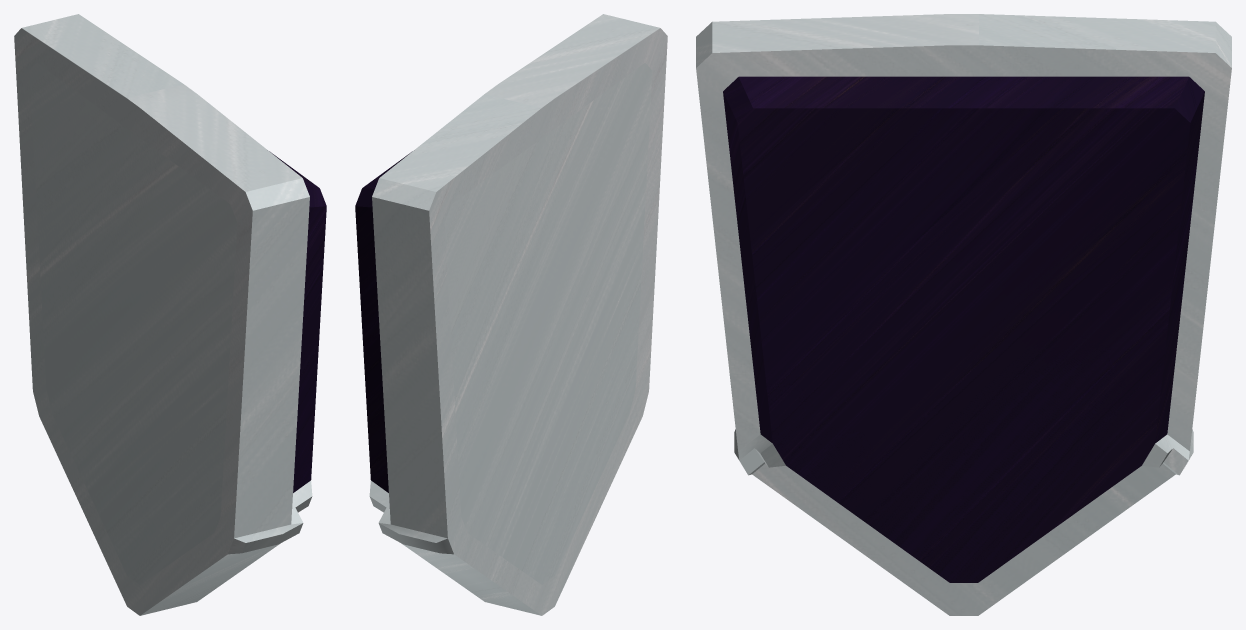
File: ShieldSS.fbx
The picture shows the model from 3 angles, left to right: view 1: azimuth 30°, elevation 25°; view 2: azimuth 150°, elevation 25°; view 3: azimuth 270°, elevation 25°; orthographic projection. The views are drawn at different scales.
Visible parts, largest first — view 1: Shield SS; view 2: Shield SS; view 3: Shield SS.
Boxes of the visible parts, left/top/right/bottom form: Shield SS: left=14, top=14, right=326, bottom=615; Shield SS: left=355, top=14, right=667, bottom=615; Shield SS: left=696, top=14, right=1231, bottom=615.
Bounding box in the file's own units: 0.1652 × 0.8673 × 0.7383.
